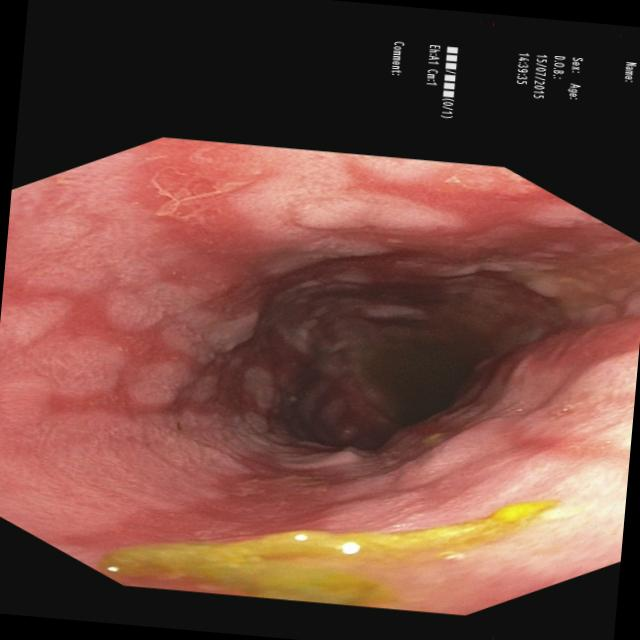esophagitis: (0, 135, 640, 615)
